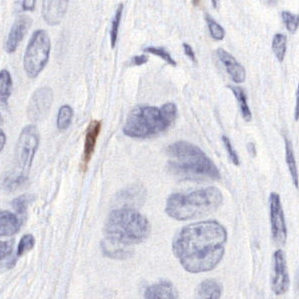Lymphocyte: (80, 120, 101, 170)
